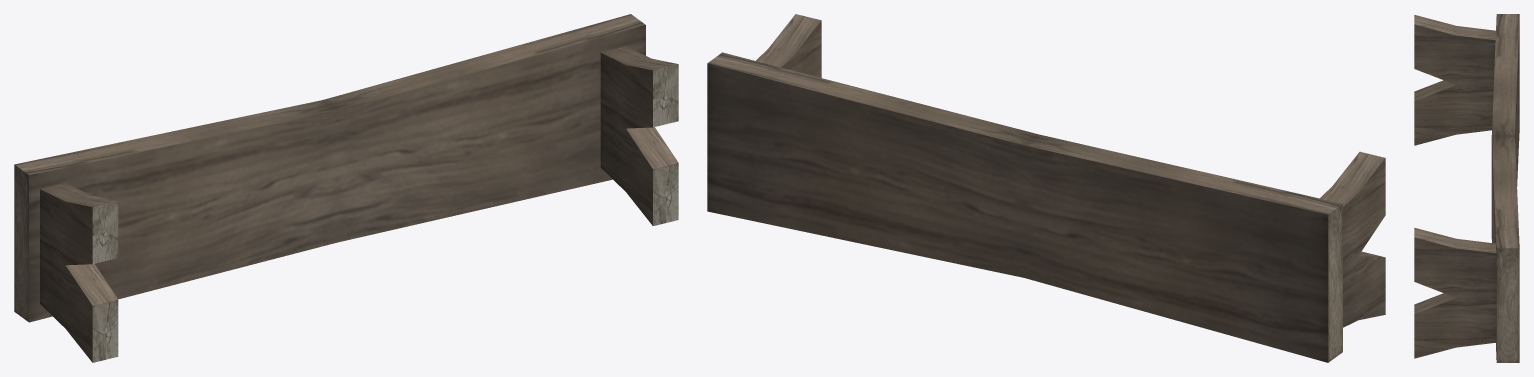
Rendered from Bench_B.fbx.
3 views of the same model, side by side, from view 1: azimuth 30°, elevation 25°; view 2: azimuth 150°, elevation 25°; view 3: azimuth 270°, elevation 25° (orthographic). The views are drawn at different scales.
Visible parts, largest first — view 1: Bench_B; view 2: Bench_B; view 3: Bench_B.
Boxes of the visible parts, left/top/right/bottom form: Bench_B: left=14, top=14, right=678, bottom=362; Bench_B: left=707, top=14, right=1385, bottom=362; Bench_B: left=1414, top=14, right=1519, bottom=362.
Size of the model in its own units: 2.57 by 0.6207 by 0.4884.
